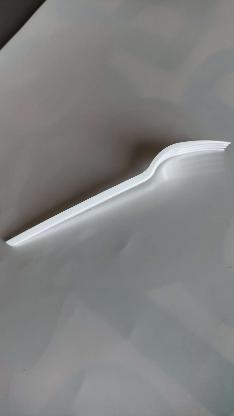Others: (5, 125, 234, 264)
